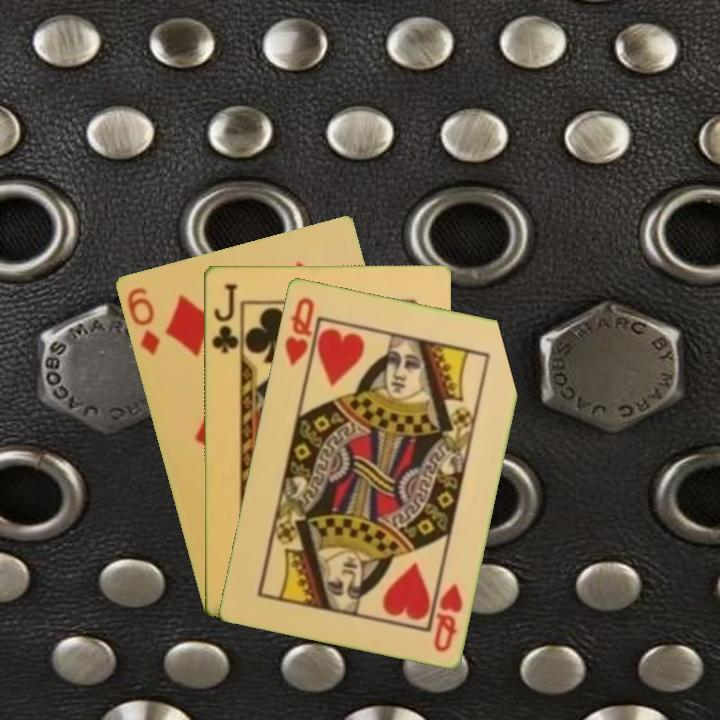6d: (123, 283, 162, 358)
Jc: (207, 279, 240, 355)
Qh: (280, 293, 320, 375), (430, 579, 465, 655)
